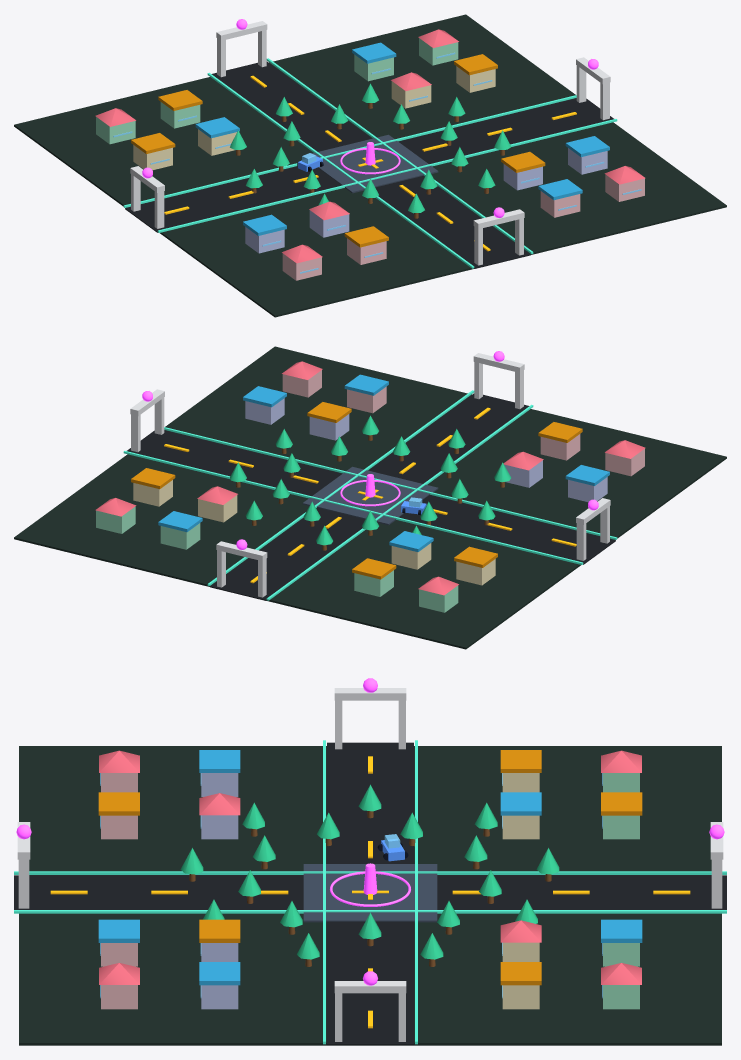
File: knowgrph-xr-demo.glb
The picture shows the model from 3 angles, top to bottom: view 1: azimuth 30°, elevation 25°; view 2: azimuth 150°, elevation 25°; view 3: azimuth 270°, elevation 25°; orthographic projection. The views are drawn at different scales.
Parts seen in each view (by area): view 1: town_base_green_square, north_south_loop_road, east_west_loop_road, central_plaza_roundabout, road_edge_ew_1, road_edge_ew_-1, road_edge_ns_-1, road_edge_ns_1, modular_block_6_body, modular_block_11_body, modular_block_4_body, modular_block_9_body (+24 smaller); view 2: town_base_green_square, north_south_loop_road, east_west_loop_road, central_plaza_roundabout, road_edge_ew_-1, road_edge_ew_1, road_edge_ns_-1, road_edge_ns_1, modular_block_5_body, modular_block_7_body, modular_block_8_body, modular_block_10_body (+24 smaller); view 3: town_base_green_square, north_south_loop_road, east_west_loop_road, central_plaza_roundabout, road_edge_ns_1, road_edge_ns_-1, modular_block_4_roof, modular_block_5_roof, modular_block_7_roof, modular_block_8_roof, modular_block_10_roof, modular_block_11_roof (+32 smaller).
Boxes of the visible parts, left/top/right/bottom form: town_base_green_square: left=14, top=14, right=726, bottom=317; north_south_loop_road: left=211, top=61, right=530, bottom=268; east_west_loop_road: left=125, top=98, right=613, bottom=232; central_plaza_roundabout: left=303, top=134, right=438, bottom=193; road_edge_ew_1: left=157, top=119, right=617, bottom=232; road_edge_ew_-1: left=123, top=95, right=576, bottom=207; road_edge_ns_-1: left=207, top=72, right=474, bottom=268; road_edge_ns_1: left=266, top=58, right=533, bottom=254; modular_block_6_body: left=309, top=210, right=349, bottom=237; modular_block_11_body: left=540, top=191, right=580, bottom=217; modular_block_4_body: left=160, top=102, right=200, bottom=128; modular_block_9_body: left=391, top=81, right=431, bottom=108; town_base_green_square: left=14, top=346, right=726, bottom=649; north_south_loop_road: left=210, top=393, right=529, bottom=600; east_west_loop_road: left=127, top=430, right=615, bottom=564; central_plaza_roundabout: left=302, top=466, right=438, bottom=525; road_edge_ew_-1: left=123, top=451, right=583, bottom=564; road_edge_ew_1: left=164, top=427, right=617, bottom=539; road_edge_ns_-1: left=266, top=404, right=533, bottom=600; road_edge_ns_1: left=207, top=390, right=474, bottom=586; modular_block_5_body: left=391, top=543, right=431, bottom=569; modular_block_7_body: left=540, top=434, right=580, bottom=460; modular_block_8_body: left=160, top=523, right=200, bottom=549; modular_block_10_body: left=309, top=414, right=349, bottom=440; town_base_green_square: left=19, top=746, right=721, bottom=1045; north_south_loop_road: left=14, top=875, right=726, bottom=909; east_west_loop_road: left=327, top=742, right=413, bottom=1045; central_plaza_roundabout: left=303, top=864, right=437, bottom=922; road_edge_ns_1: left=14, top=910, right=726, bottom=913; road_edge_ns_-1: left=14, top=871, right=726, bottom=874; modular_block_4_roof: left=601, top=792, right=642, bottom=815; modular_block_5_roof: left=500, top=792, right=541, bottom=815; modular_block_7_roof: left=98, top=792, right=139, bottom=815; modular_block_8_roof: left=601, top=919, right=642, bottom=942; modular_block_10_roof: left=199, top=919, right=240, bottom=942; modular_block_11_roof: left=98, top=919, right=139, bottom=942.
Bounding box in the file's own units: 42.6 × 4.74 × 42.6.
